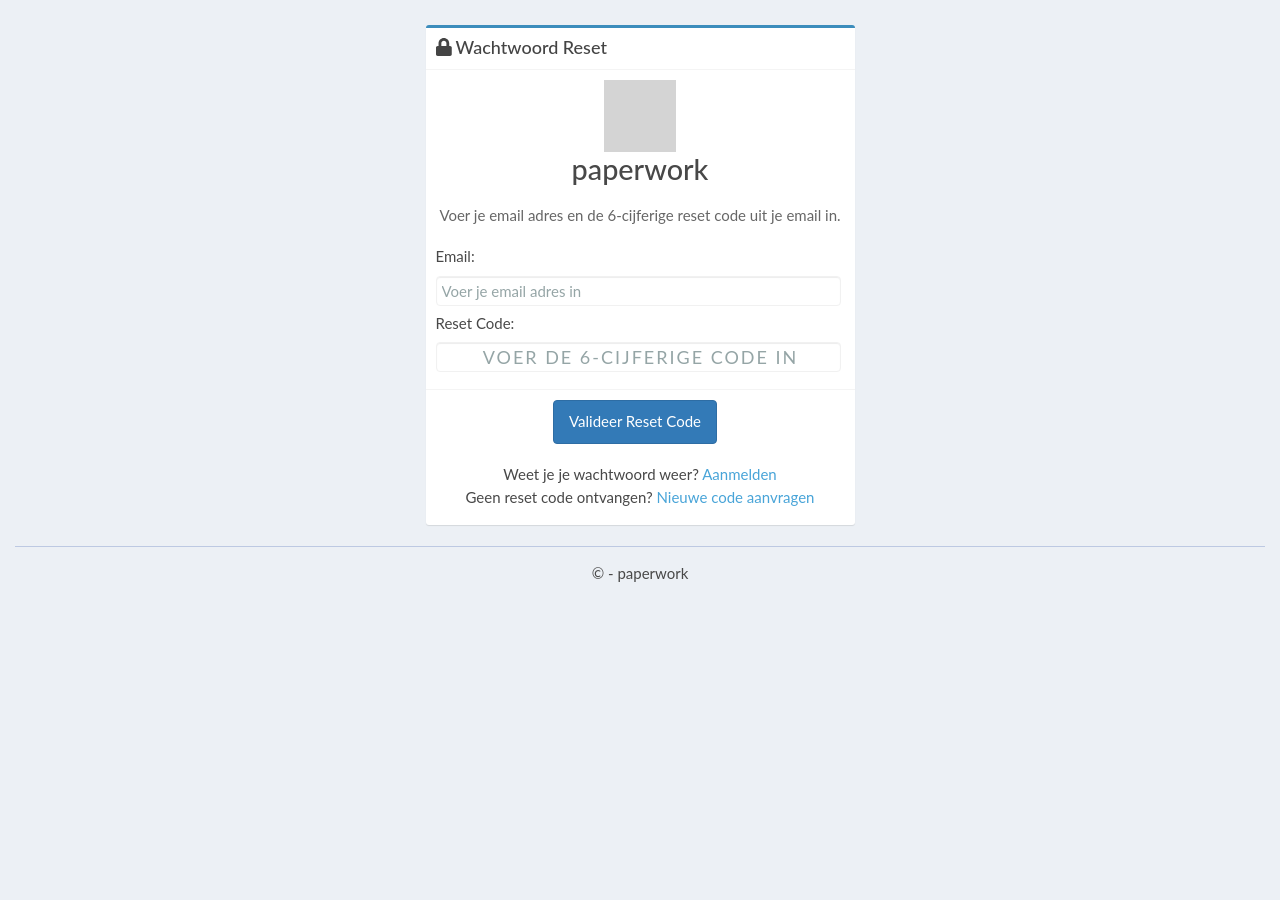
Scenario: PasswordReset › shows validation errors and does not fetch when step 1 is empty
Click the button "Valideer Reset Code": (635, 422) [553,400,717,444]
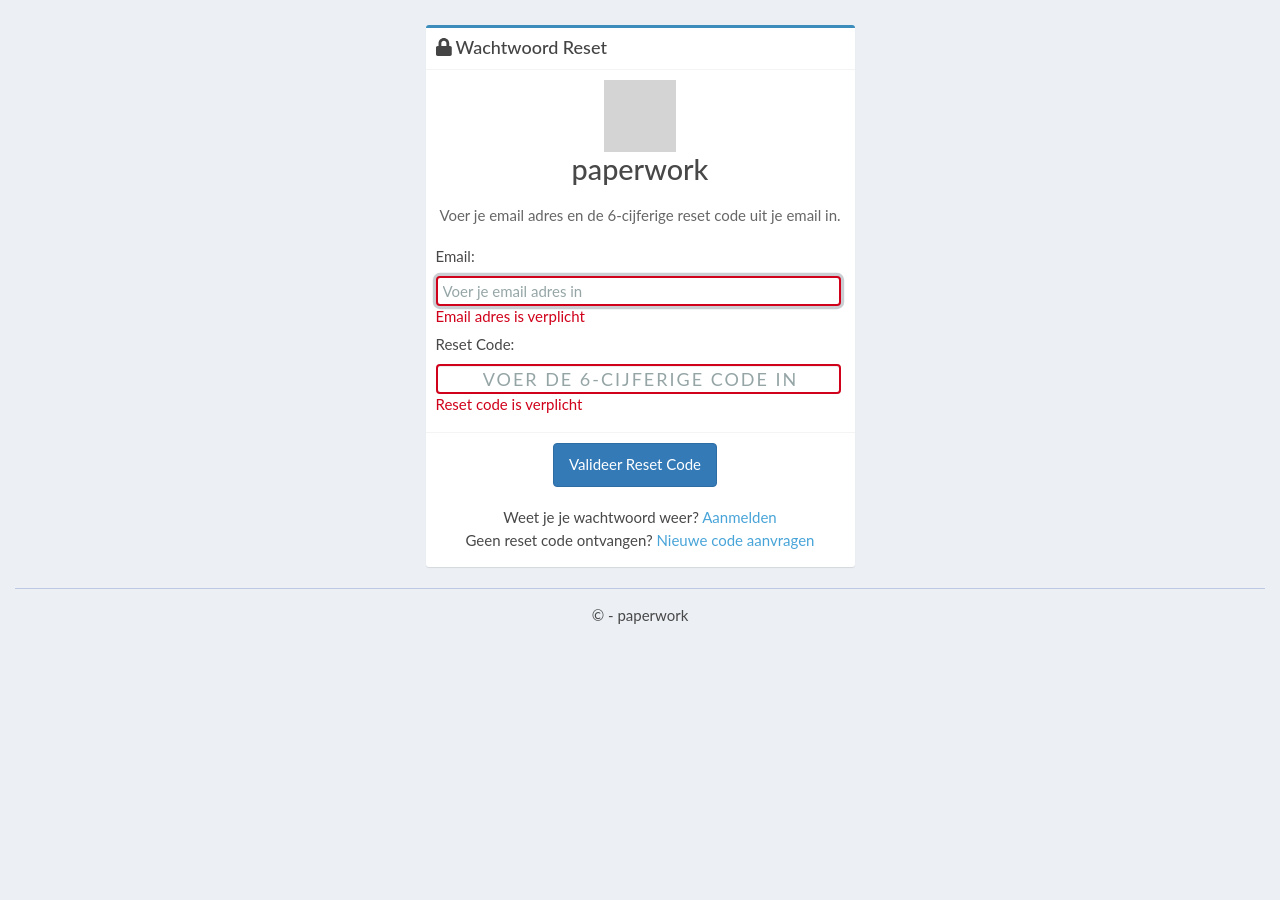
Result: the text "Email adres is verplicht" is shown at [436,307,585,325]
Result: the text "Reset code is verplicht" is shown at [436,395,582,413]
